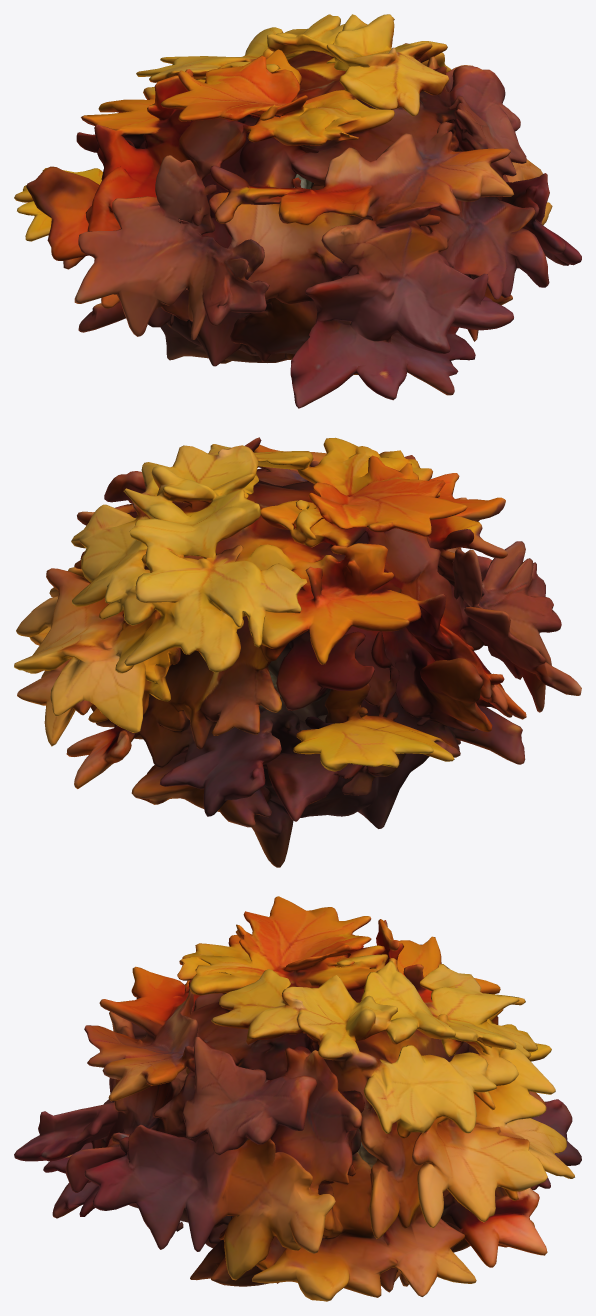
Rendered from nature-leaf-pile.glb.
3 renders of one model, top to bottom at view 1: azimuth 30°, elevation 25°; view 2: azimuth 150°, elevation 25°; view 3: azimuth 270°, elevation 25°, orthographic. The views are drawn at different scales.
Parts seen in each view (by area): view 1: tripo_node_7fdbd26d-1c09-4ac8-9815-1c3009950ea4; view 2: tripo_node_7fdbd26d-1c09-4ac8-9815-1c3009950ea4; view 3: tripo_node_7fdbd26d-1c09-4ac8-9815-1c3009950ea4.
Boxes of the visible parts, <box> form: tripo_node_7fdbd26d-1c09-4ac8-9815-1c3009950ea4: <box>14,14,581,408</box>; tripo_node_7fdbd26d-1c09-4ac8-9815-1c3009950ea4: <box>14,437,581,867</box>; tripo_node_7fdbd26d-1c09-4ac8-9815-1c3009950ea4: <box>14,896,581,1301</box>.
Size of the model in its own units: 0.789 by 0.5 by 0.7595.
Materials: 1 (1 with a texture image).
